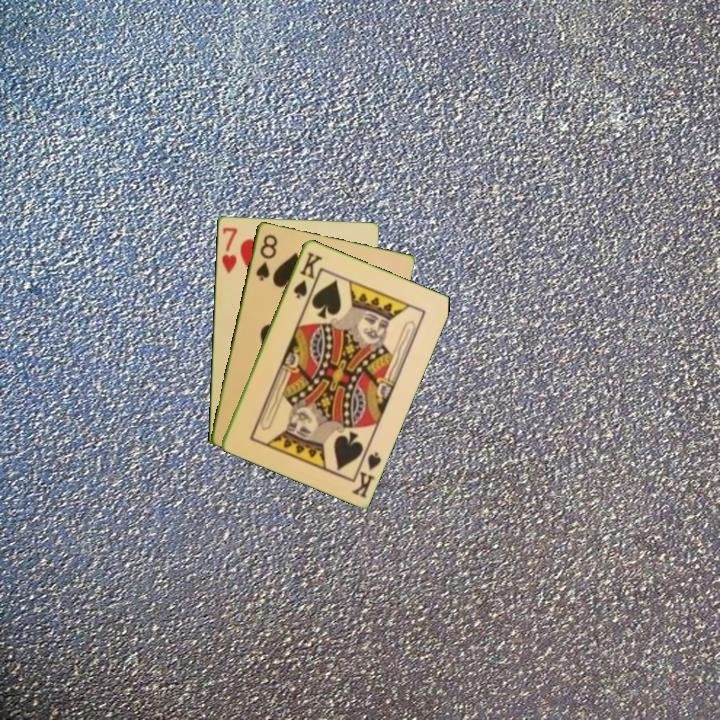7h: (218, 224, 240, 276)
8s: (252, 231, 280, 283)
Ks: (348, 443, 384, 501), (290, 248, 325, 301)
